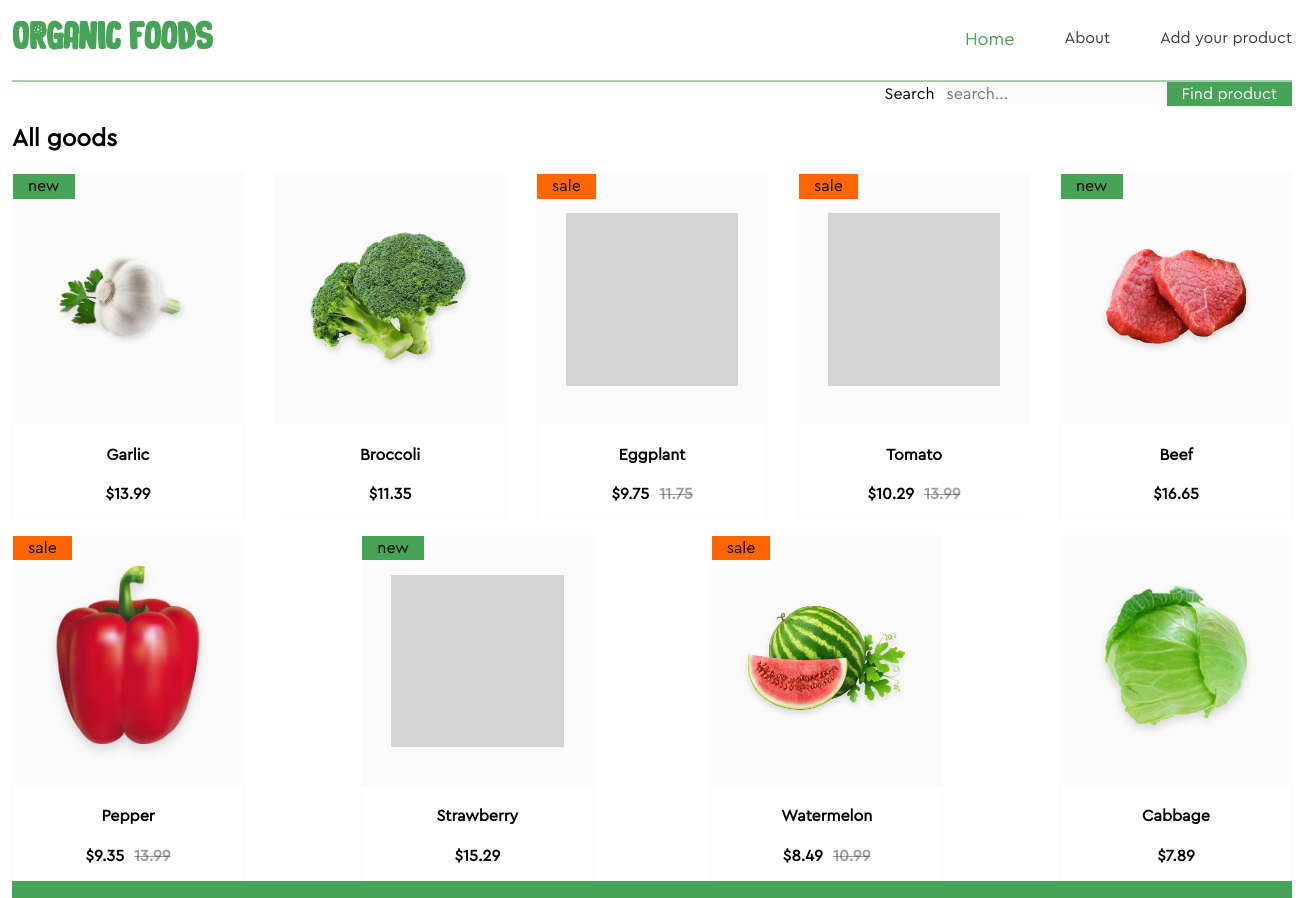
Scenario: App › following links
Step 1. Click the link "About" → point(1087, 38), box [1065,30,1110,46]
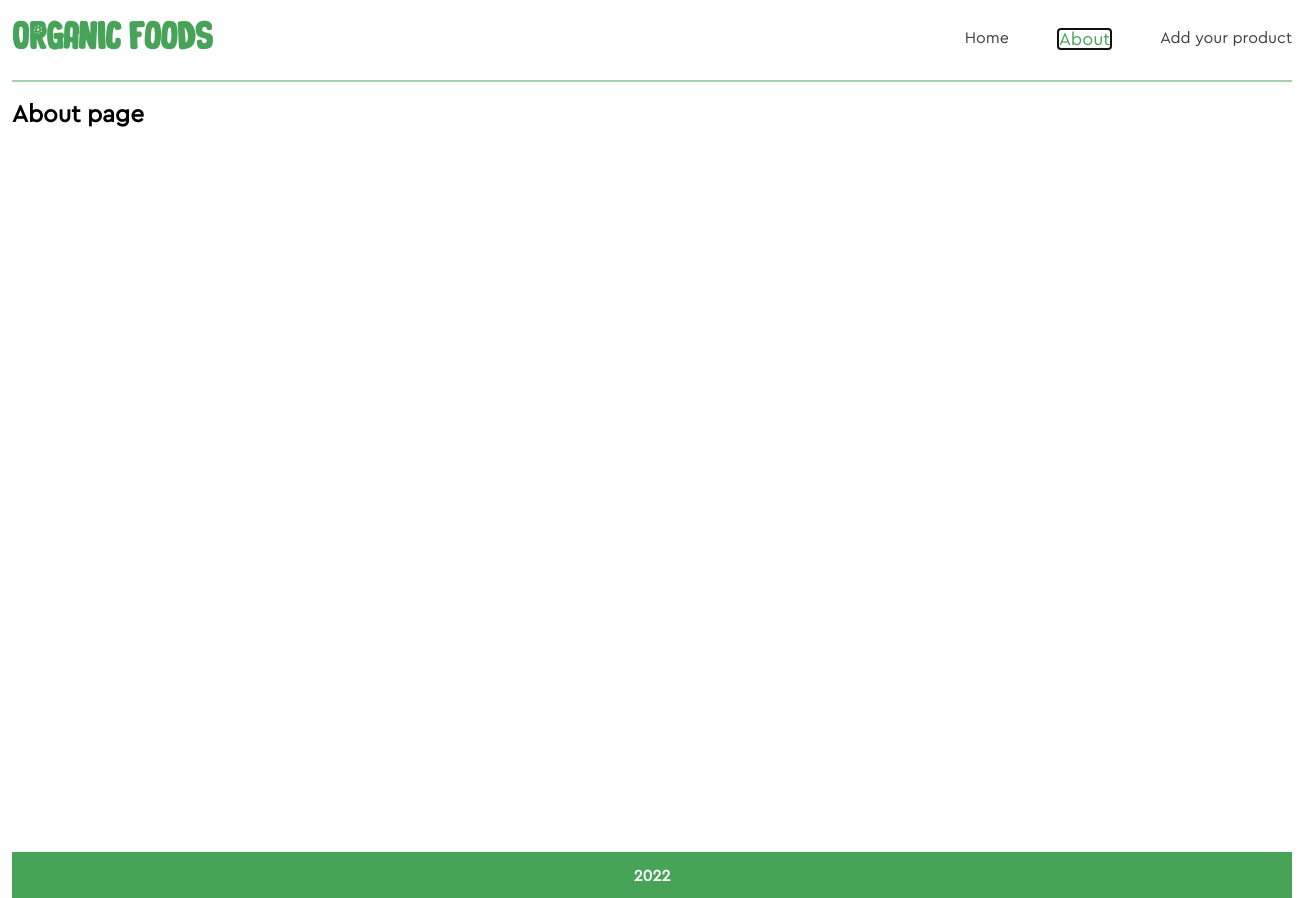
Expected: the heading "About page" is shown, [12,103,144,127]
